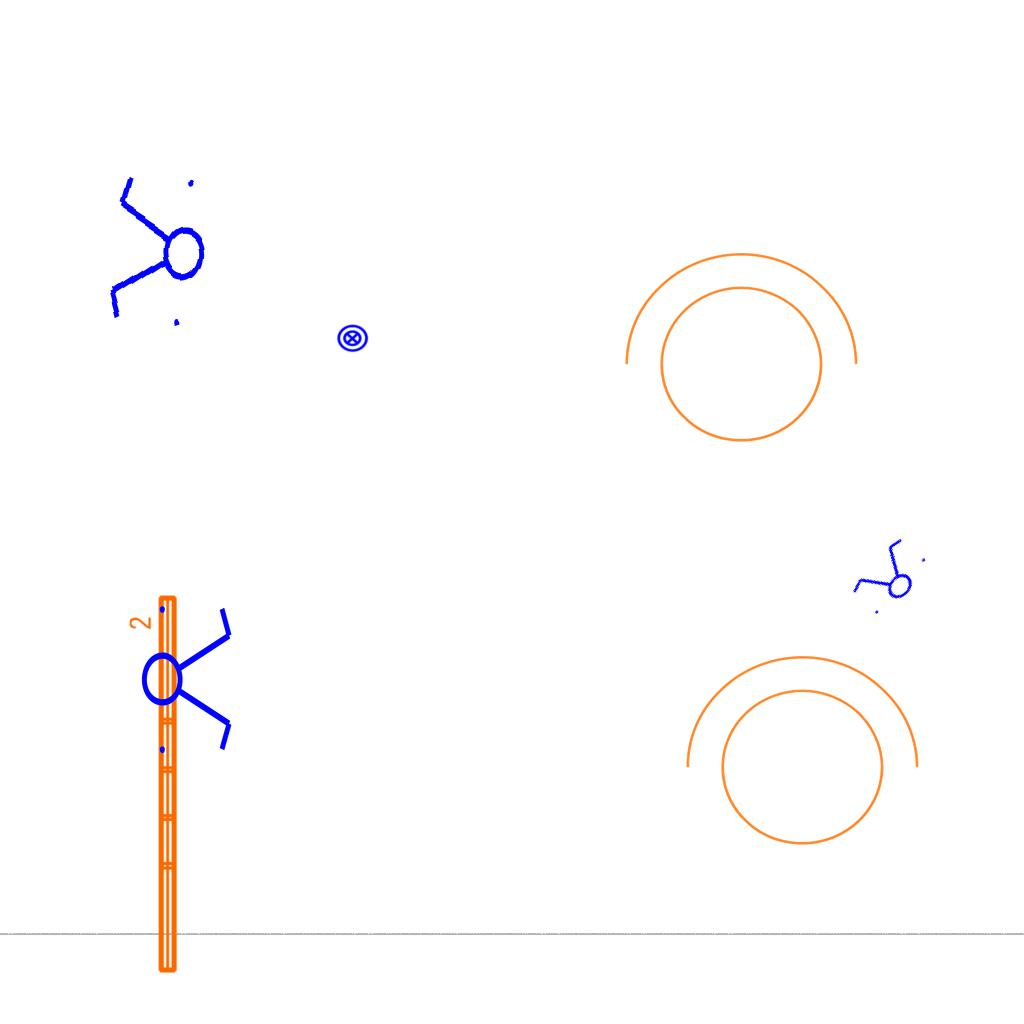Ambulanz_Pendelleuchte_LED: (127, 591, 183, 978)
Scheinwerfer_fuer_Alarmbeleuchtung: (664, 645, 928, 870), (603, 242, 867, 467)
Serienschalter: (101, 163, 215, 341), (140, 594, 236, 762), (844, 530, 936, 626)
Taster_beleuchtet: (336, 322, 369, 355)
